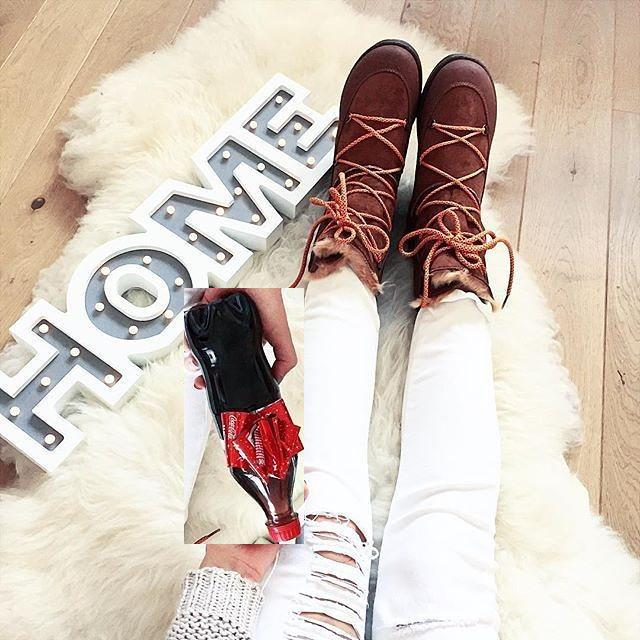coca-cola: (184, 288, 304, 544)
